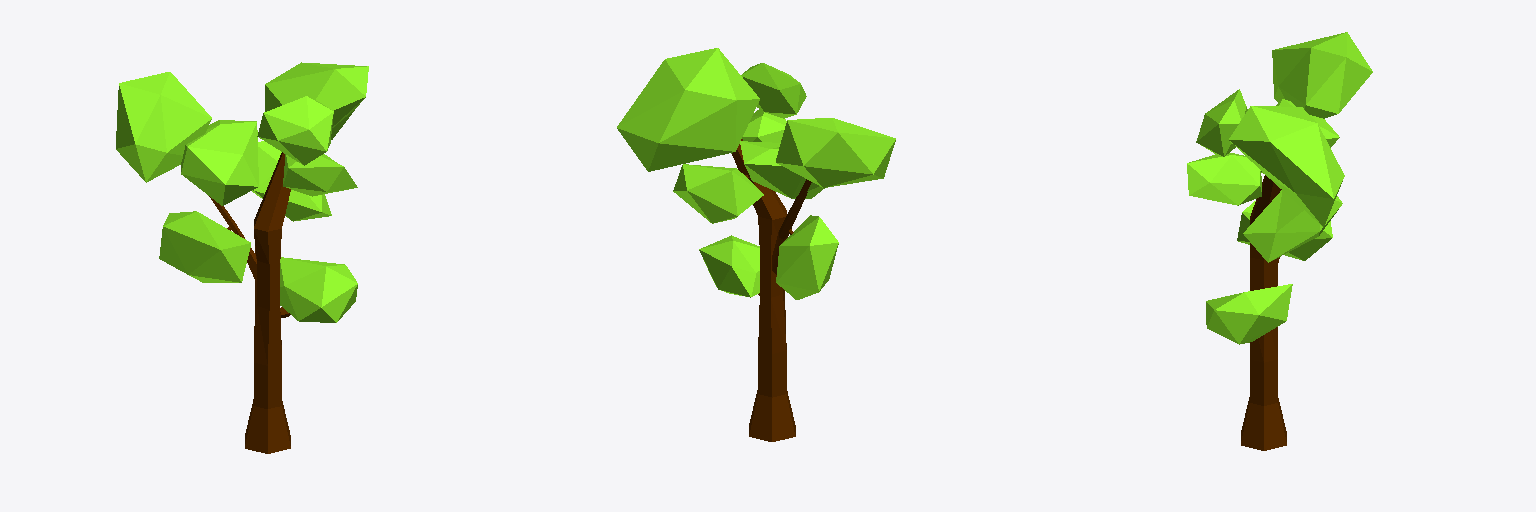
Rendered from tree05.obj.
3 views of the same model, side by side, from view 1: azimuth 30°, elevation 25°; view 2: azimuth 150°, elevation 25°; view 3: azimuth 270°, elevation 25° (orthographic).
Visible parts, largest first — view 1: Mesh25, Mesh32, Mesh27, Mesh30, Mesh28, Mesh26, Mesh33, Mesh29, Mesh31; view 2: Mesh26, Mesh25, Mesh32, Mesh30, Mesh31, Mesh28, Mesh27, Mesh33, Mesh29; view 3: Mesh26, Mesh32, Mesh25, Mesh28, Mesh31, Mesh29, Mesh33, Mesh30.
Part boxes in pixels (x1,y1,x2,y2): Mesh25: (209,152,290,453); Mesh32: (116,72,211,182); Mesh27: (181,120,258,205); Mesh30: (159,211,250,282); Mesh28: (280,257,357,322); Mesh26: (265,62,368,139); Mesh33: (257,96,333,165); Mesh29: (283,154,357,196); Mesh31: (252,141,331,221); Mesh26: (617,48,759,171); Mesh25: (732,139,811,441); Mesh32: (776,118,895,187); Mesh30: (776,215,838,299); Mesh31: (673,164,763,223); Mesh28: (699,235,759,297); Mesh27: (740,141,824,198); Mesh33: (741,63,806,118); Mesh29: (731,109,786,153); Mesh26: (1229,106,1344,227); Mesh32: (1272,32,1372,118); Mesh25: (1241,175,1286,450); Mesh28: (1206,284,1292,344); Mesh31: (1243,190,1342,262); Mesh29: (1187,153,1261,205); Mesh33: (1196,89,1247,156); Mesh30: (1237,201,1332,260).
Size of the model in its own units: 372 by 520 by 241.